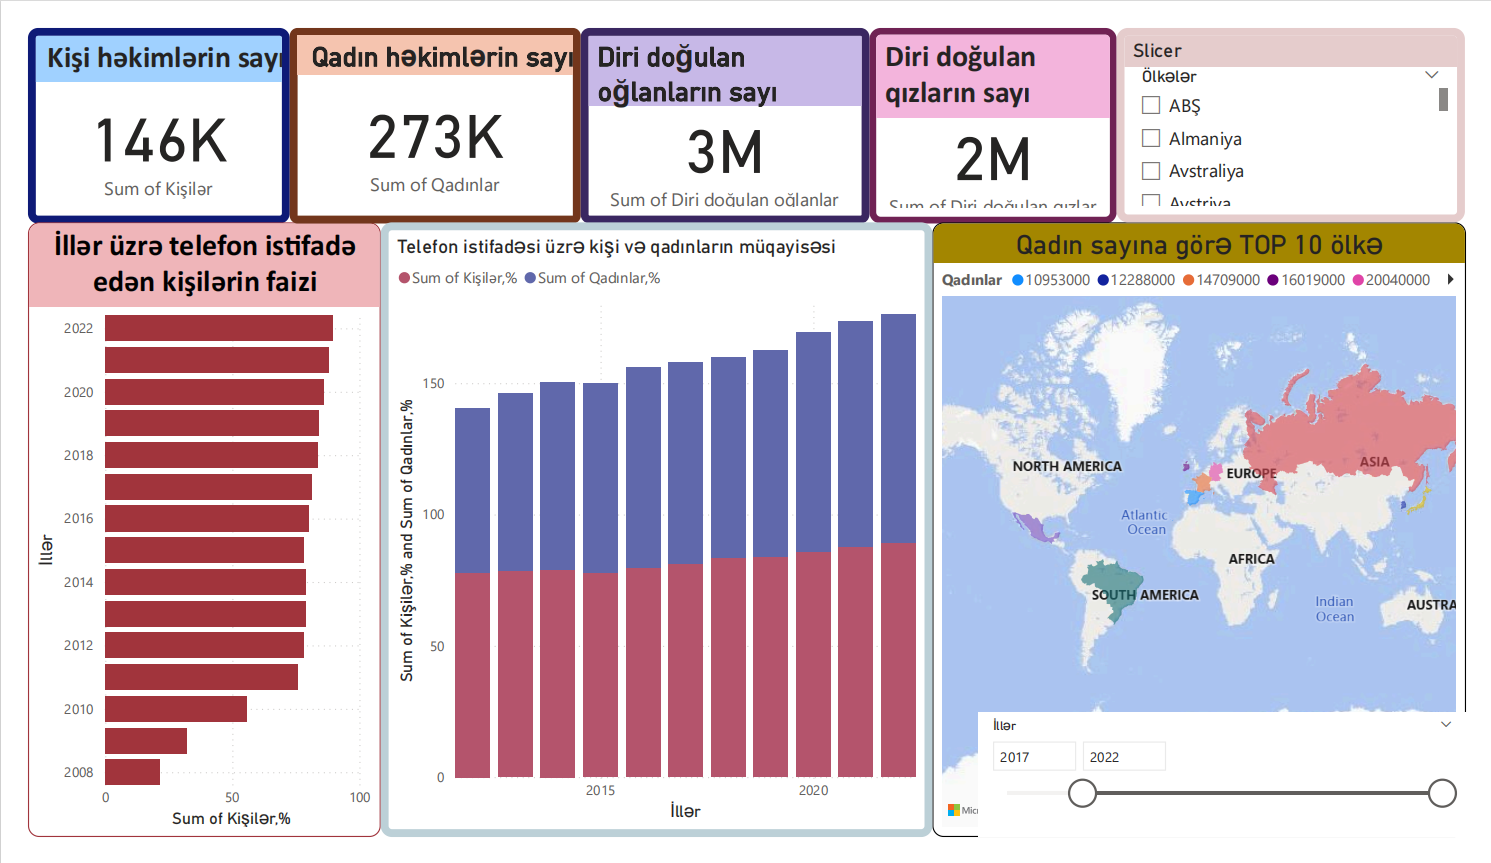

What the dashboard file says about the page in this screenshot:
{"tool":"powerbi","page":{"name":"Page 2","canvas":[1280,720],"ordinal":1},"visuals":[{"type":"card","title":"Kişi həkimlərin sayı","fields":{"Values":["Sum(Həkim.Kişilər)"]},"box":[0,0,233.2,173.6],"z":0},{"type":"clusteredBarChart","title":"İllər üzrə telefon istifadə edən kişilərin faizi","fields":{"Category":["Telefon istifadəsi faizi.İllər"],"Y":["Sum(Telefon istifadəsi faizi.Kişilər,%)"]},"box":[0,172.9,314.2,547.5],"z":1000},{"type":"card","title":"Diri doğulan qızların sayı","fields":{"Values":["Sum(Əhali.Diri doğulan qızlar)"]},"box":[748.9,0,219.6,173.6],"z":2000},{"type":"filledMap","title":"Qadın sayına görə TOP 10 ölkə","fields":{"Category":["Ölkə üzrə əhali.Ölkələr"],"Series":["Ölkə üzrə əhali.Qadınlar"]},"box":[805.3,173.5,474.9,546.5],"z":3000},{"type":"card","title":"Qadın həkimlərin sayı","fields":{"Values":["Sum(Həkim.Qadınlar)"]},"box":[233.2,0,258.7,173.6],"z":4000},{"type":"card","title":"Diri doğulan oğlanların sayı","fields":{"Values":["Sum(Əhali.Diri doğulan oğlanlar)"]},"box":[491.9,0,257,173.6],"z":5000},{"type":"columnChart","title":"Telefon istifadəsi üzrə kişi və qadınların müqayisəsi","fields":{"Y":["Sum(Telefon istifadəsi faizi.Kişilər,%)","Sum(Telefon istifadəsi faizi.Qadınlar,%)"],"Category":["Telefon istifadəsi faizi.İllər"]},"box":[313.9,173.5,491.5,546.5],"z":6000},{"type":"slicer","title":"Slicer","fields":{"Values":["Ölkə üzrə əhali.Ölkələr"]},"box":[968.8,0,310.1,172.9],"z":7000},{"type":"slicer","fields":{"Values":["Ölkə üzrə əhali.İllər"]},"box":[846,609.4,434,110.6],"z":8000}]}

Visuals, with their boxes in screenshot pixels (x1, y1, x2, y2), scaled from the page's 1280x720 canvas onto the 1491x863 screenshot:
"Kişi həkimlərin sayı" card: [0,0,272,208]
"İllər üzrə telefon istifadə edən kişilərin faizi" clusteredBarChart: [0,207,366,862]
"Diri doğulan qızların sayı" card: [872,0,1128,208]
"Qadın sayına görə TOP 10 ölkə" filledMap: [938,208,1490,862]
"Qadın həkimlərin sayı" card: [272,0,573,208]
"Diri doğulan oğlanların sayı" card: [573,0,872,208]
"Telefon istifadəsi üzrə kişi və qadınların müqayisəsi" columnChart: [366,208,938,862]
"Slicer" slicer: [1129,0,1490,207]
slicer - Ölkə üzrə əhali.İllər: [985,730,1490,862]
